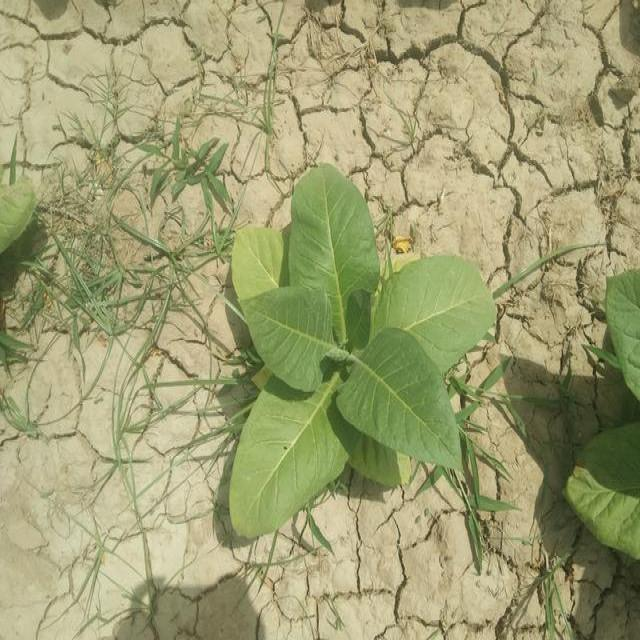crop: (223, 162, 494, 539), (575, 272, 640, 560)
